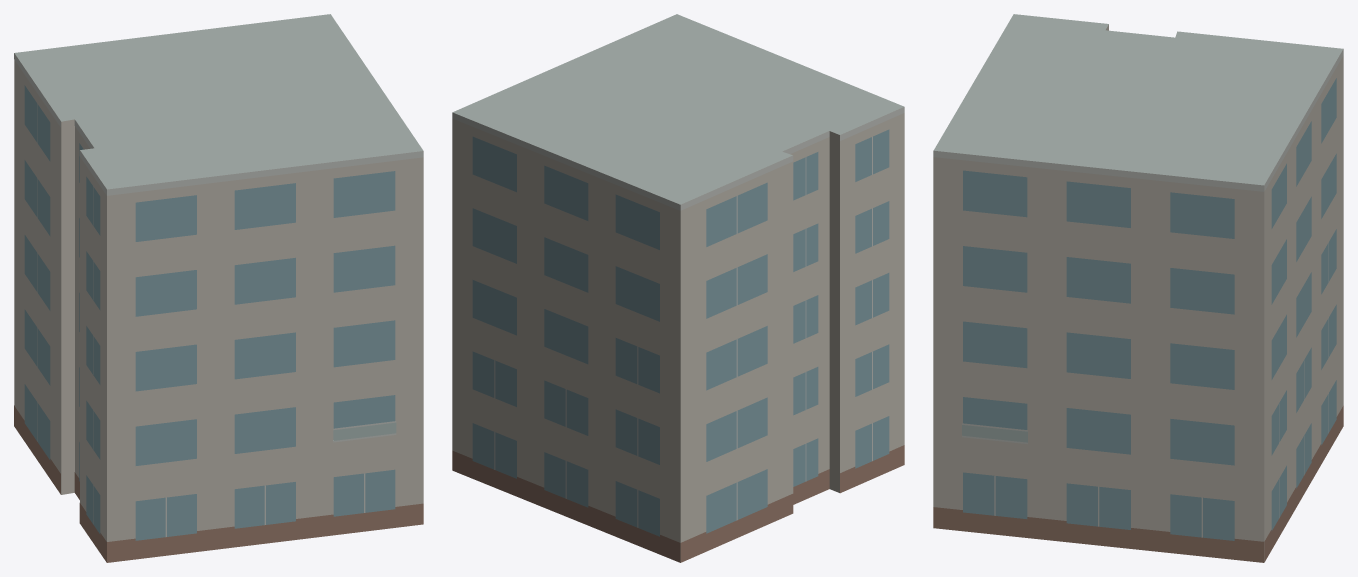
Rendered from survey-upis-32871943.glb.
3 views of the same model, side by side, from view 1: azimuth 30°, elevation 25°; view 2: azimuth 150°, elevation 25°; view 3: azimuth 270°, elevation 25° (orthographic). The views are drawn at different scales.
Parts seen in each view (by area): view 1: survey-upis-32871943.tmp; view 2: survey-upis-32871943.tmp; view 3: survey-upis-32871943.tmp.
Boxes of the visible parts, x1,y1,x2,y2 form: survey-upis-32871943.tmp: [14, 14, 423, 562]; survey-upis-32871943.tmp: [452, 14, 904, 562]; survey-upis-32871943.tmp: [933, 14, 1343, 562].
Bounding box in the file's own units: 13.99 × 14.35 × 14.14.
